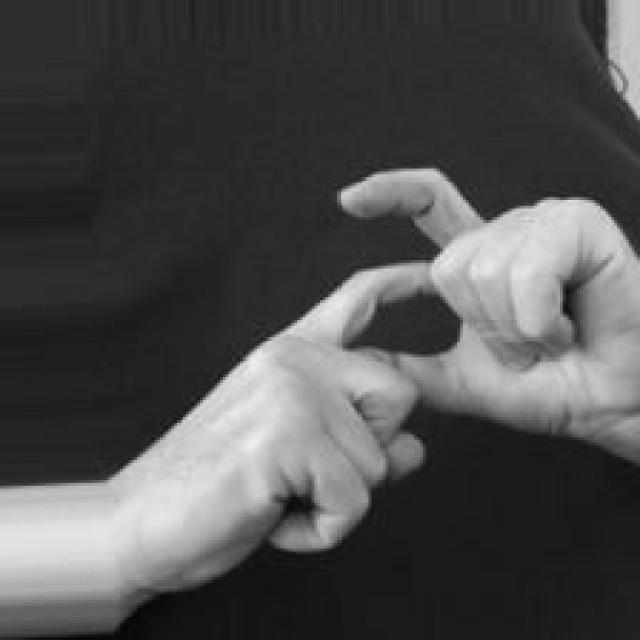G: (140, 160, 637, 640)
